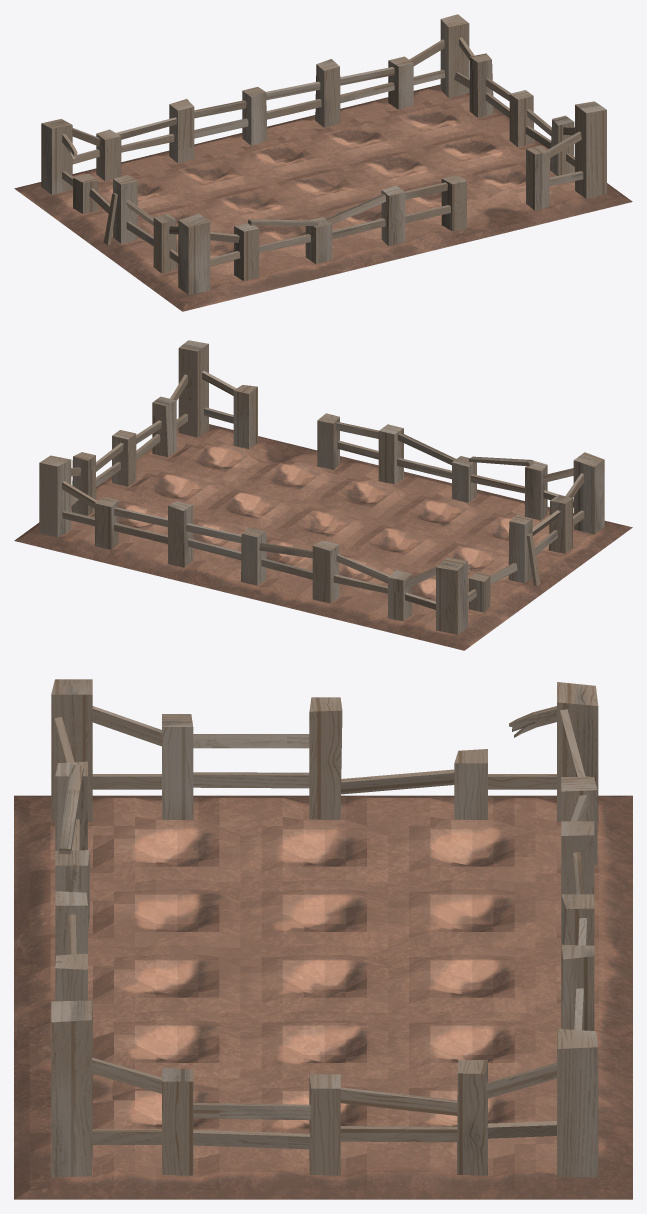
File: ogorod.fbx
3 views of the same model, one above another, from view 1: azimuth 30°, elevation 25°; view 2: azimuth 150°, elevation 25°; view 3: azimuth 270°, elevation 25° (orthographic). The views are drawn at different scales.
Parts seen in each view (by area): view 1: ogorod, zabor.001; view 2: ogorod, zabor.001; view 3: ogorod, zabor.001.
Part boxes in pixels (box(x1,y1,x2,y2)): ogorod: box(14, 84, 632, 311); zabor.001: box(41, 14, 606, 294); ogorod: box(14, 424, 632, 650); zabor.001: box(39, 340, 604, 634); ogorod: box(14, 795, 632, 1199); zabor.001: box(51, 679, 598, 1177).
Bounding box in the file's own units: 2030 × 390 × 1315.
